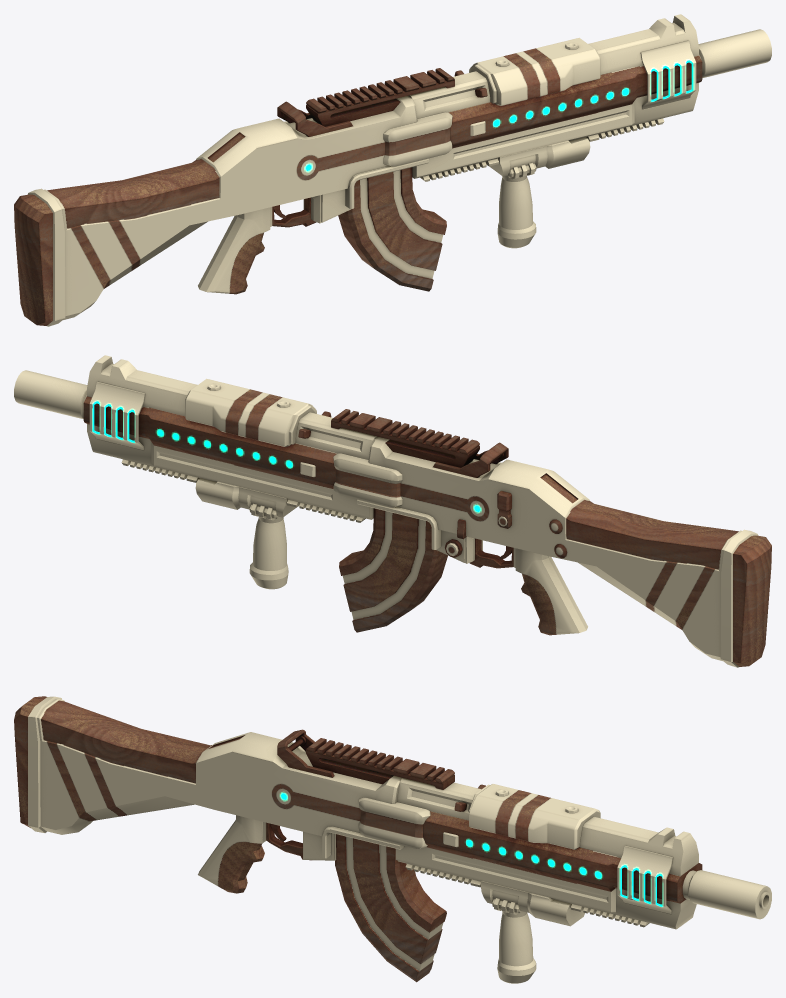
File: weapon_19_2.gltf
3 views of the same model, one above another, from view 1: azimuth 30°, elevation 25°; view 2: azimuth 150°, elevation 25°; view 3: azimuth 330°, elevation 25° (orthographic).
Visible parts, largest first — view 1: weapon_7.015_weapon_7.016; view 2: weapon_7.015_weapon_7.016; view 3: weapon_7.015_weapon_7.016.
Boxes of the visible parts, <box> form: weapon_7.015_weapon_7.016: <box>14,14,771,326</box>; weapon_7.015_weapon_7.016: <box>14,355,771,667</box>; weapon_7.015_weapon_7.016: <box>14,696,771,983</box>.
Size of the model in its own units: 9975 by 2700 by 748.
1 material, 1 textured.
